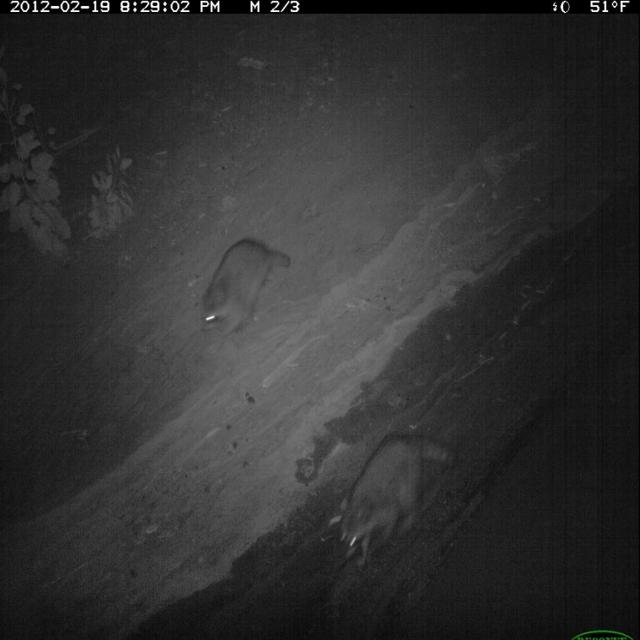raccoon: (325, 427, 459, 574), (196, 235, 294, 347)
